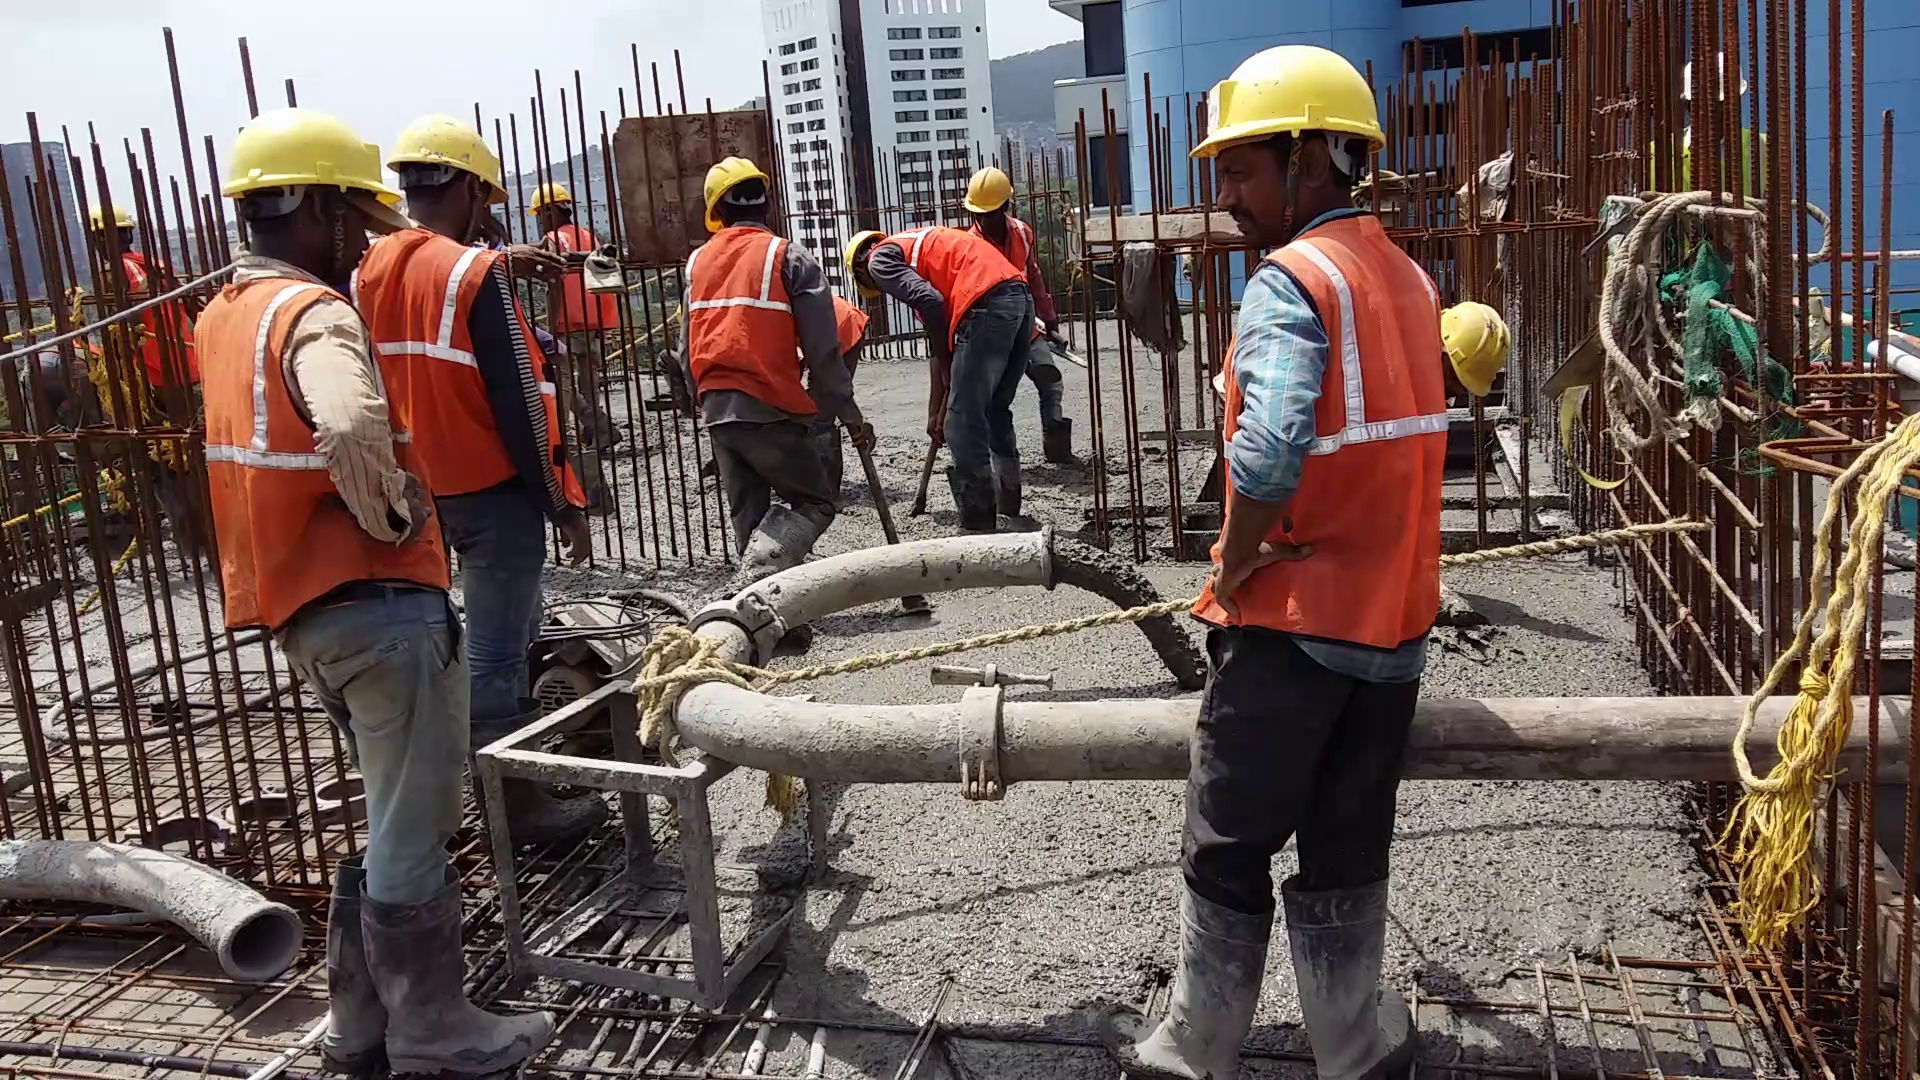SAFE: (1188, 37, 1447, 658), (191, 98, 393, 618), (396, 112, 530, 498), (686, 152, 804, 430), (843, 228, 1029, 340)
